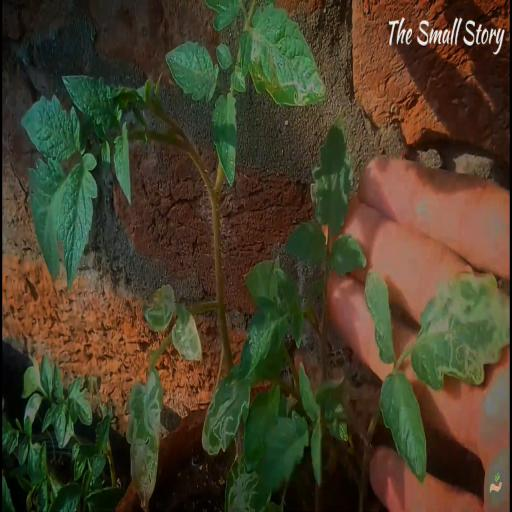Healthy: (379, 368, 428, 484), (57, 153, 97, 289), (26, 155, 66, 283), (257, 410, 310, 501), (20, 91, 81, 163), (237, 295, 286, 383), (60, 72, 123, 135), (164, 36, 220, 106), (211, 92, 238, 190), (284, 219, 326, 268), (330, 235, 368, 280), (114, 121, 131, 211)
Leaf_Miner: (410, 268, 510, 389), (238, 0, 327, 111), (125, 365, 165, 512), (308, 110, 354, 236), (201, 365, 253, 458), (170, 305, 206, 362), (140, 280, 176, 333)
